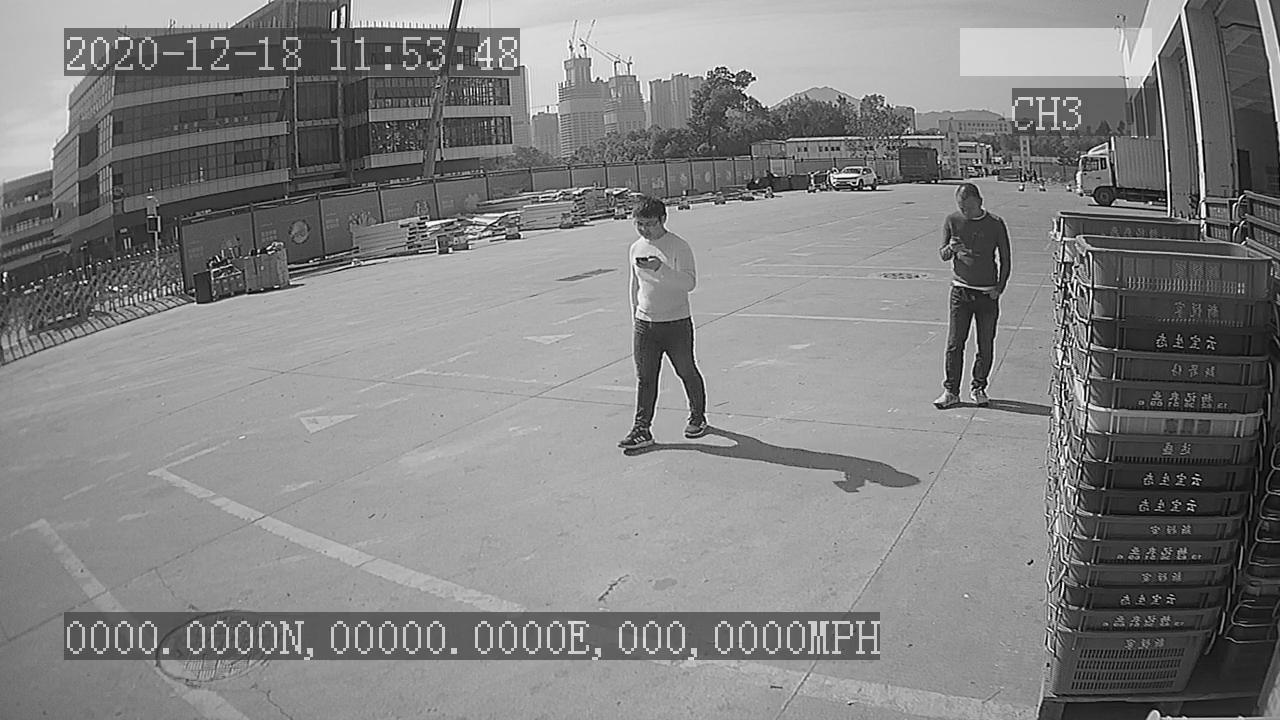person: (604, 192, 717, 451), (924, 177, 1018, 415)
